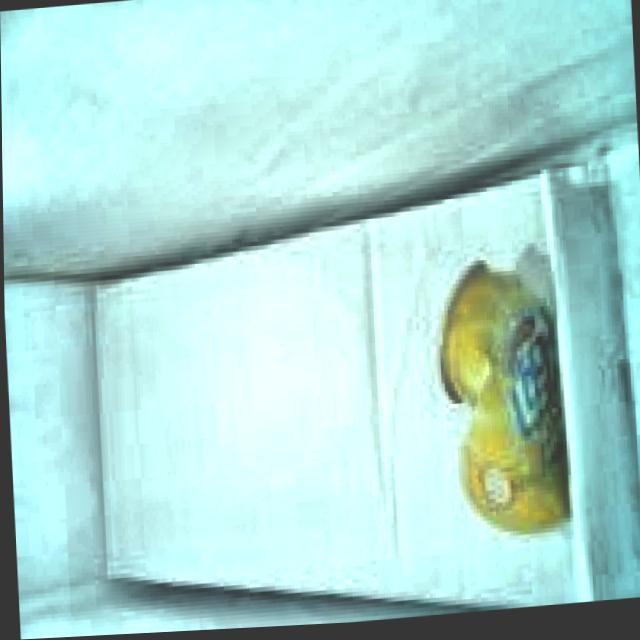Cans: (411, 246, 570, 551)
